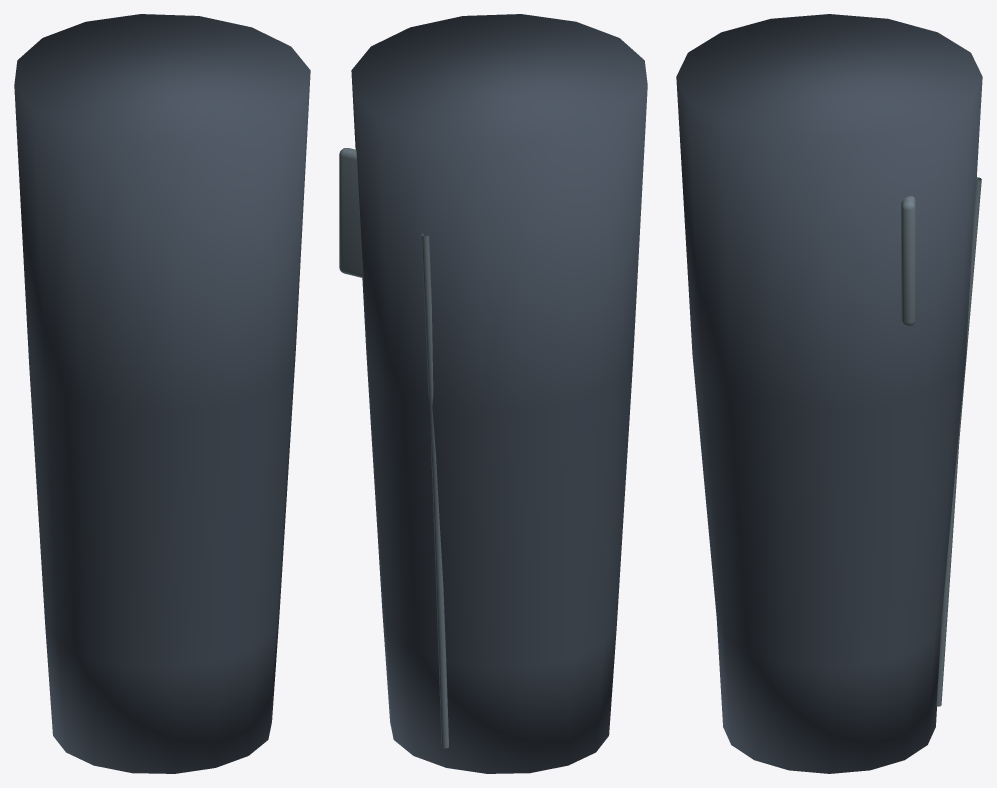
File: SM_Hider_Thigh.glb
3 renders of one model, left to right at view 1: azimuth 30°, elevation 25°; view 2: azimuth 150°, elevation 25°; view 3: azimuth 270°, elevation 25°, orthographic.
Parts seen in each view (by area): view 1: SM_Hider_Thigh; view 2: SM_Hider_Thigh; view 3: SM_Hider_Thigh.
Boxes of the visible parts, box(x1,y1,x2,y2) form: SM_Hider_Thigh: box(14, 14, 310, 773); SM_Hider_Thigh: box(339, 14, 647, 773); SM_Hider_Thigh: box(676, 14, 982, 773).
Size of the model in its own units: 0.184 by 0.445 by 0.19.
